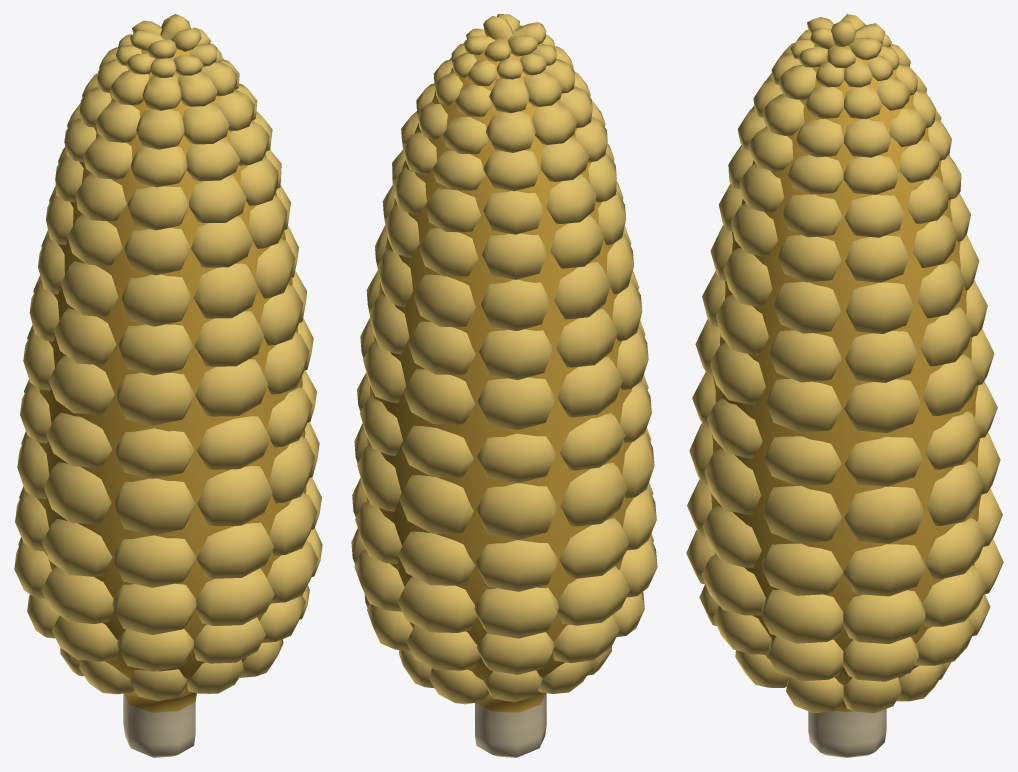
File: Corn_03.dae
3 renders of one model, left to right at view 1: azimuth 30°, elevation 25°; view 2: azimuth 150°, elevation 25°; view 3: azimuth 270°, elevation 25°, orthographic.
Visible parts, largest first — view 1: Corn_03_LOD0; view 2: Corn_03_LOD0; view 3: Corn_03_LOD0.
Boxes of the visible parts, x1,y1,x2,y2 form: Corn_03_LOD0: (14,14,322,757); Corn_03_LOD0: (351,14,657,757); Corn_03_LOD0: (686,14,1003,757).
Size of what is drawn, in the model's own units: 2.55 by 2.64 by 6.75.
